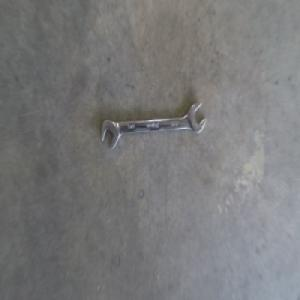Wrench: (99, 101, 206, 151)
